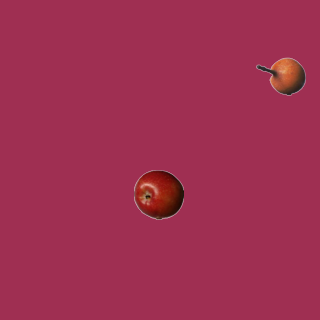Apple Braeburn: (133, 169, 183, 219)
Granadilla: (255, 51, 305, 101)
